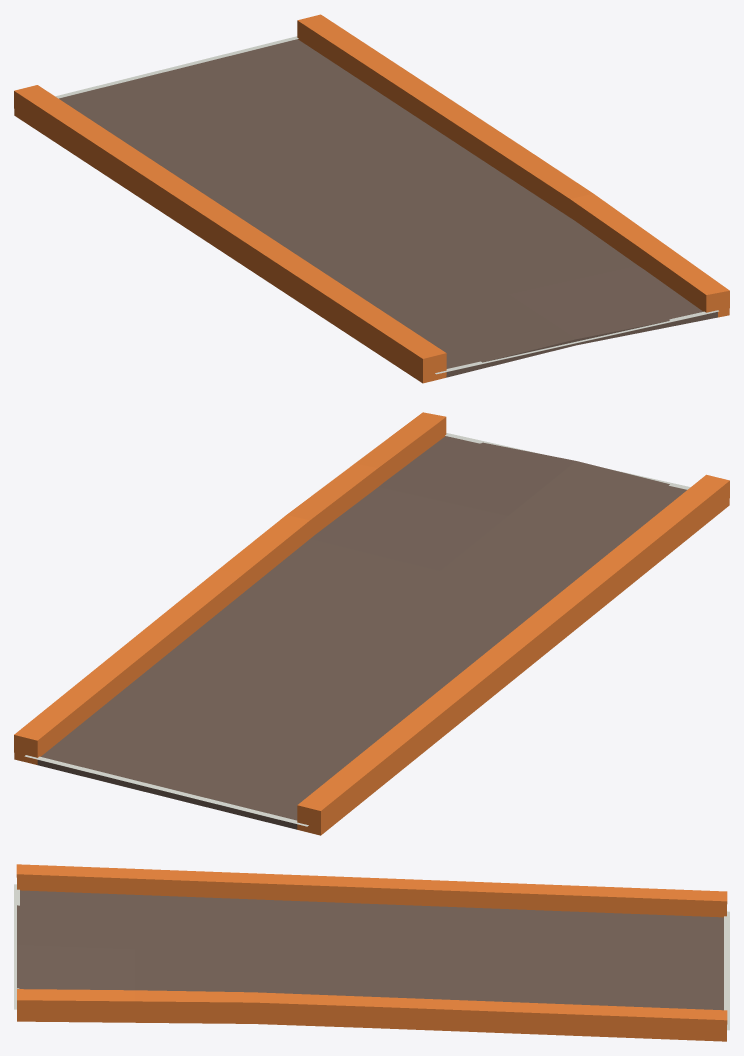
File: SM_MP_Film_A_2_1.fbx
The picture shows the model from 3 angles, top to bottom: view 1: azimuth 30°, elevation 25°; view 2: azimuth 150°, elevation 25°; view 3: azimuth 270°, elevation 25°; orthographic projection. The views are drawn at different scales.
Parts seen in each view (by area): view 1: SM_MP_Film_A_2_1; view 2: SM_MP_Film_A_2_1; view 3: SM_MP_Film_A_2_1.
Part boxes in pixels (box(x1,y1,x2,y2)): SM_MP_Film_A_2_1: box(14, 14, 729, 383); SM_MP_Film_A_2_1: box(14, 412, 729, 835); SM_MP_Film_A_2_1: box(14, 864, 729, 1041).
Size of what is drawn, in the model's own units: 260 by 605 by 45.38.
